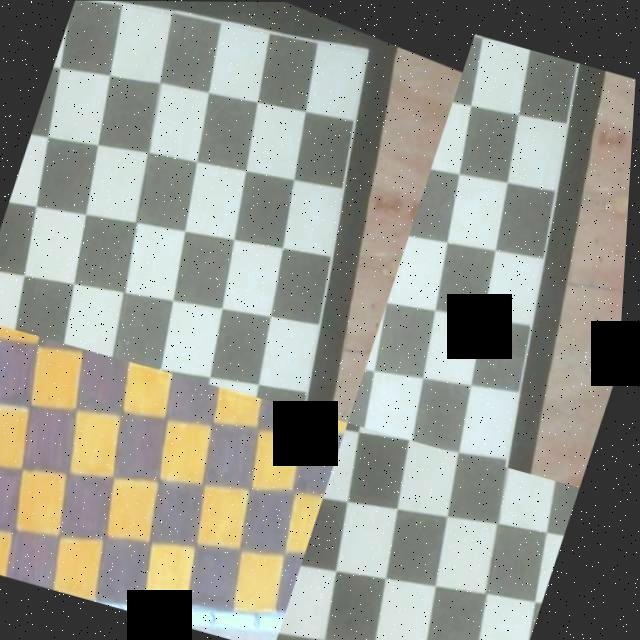chess-table-corners: (560, 58, 574, 66), (369, 34, 376, 42), (351, 422, 357, 429), (72, 1, 76, 9), (300, 408, 306, 411)
